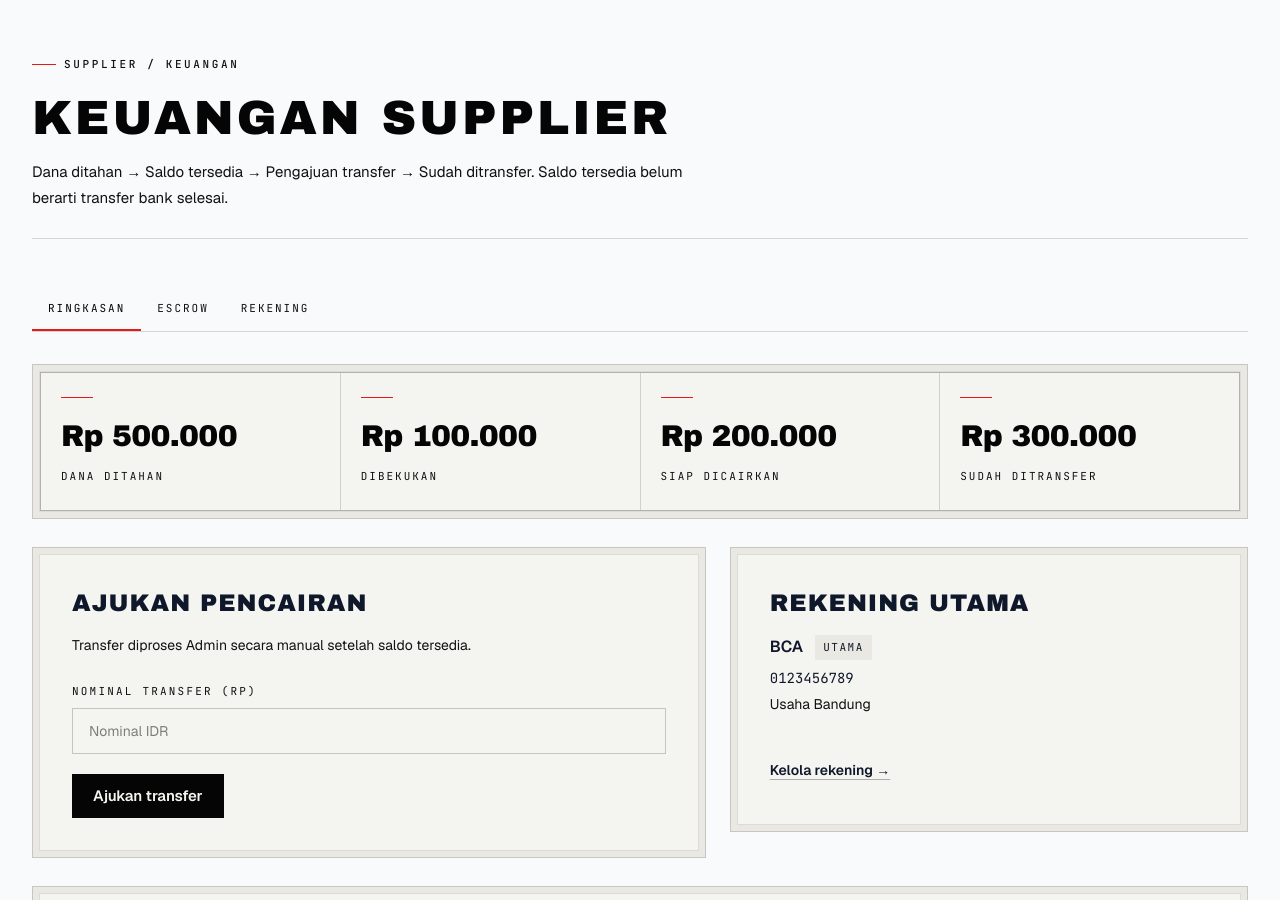
Supplier finance route views › confirms and sends a payout once while pending, then refreshes its status
expect the heading "Keuangan Supplier" is shown: met, box [32, 93, 704, 143]
Type "100000" into the number field labelled "Nominal transfer (Rp)" at (369, 731), box [72, 708, 666, 754]
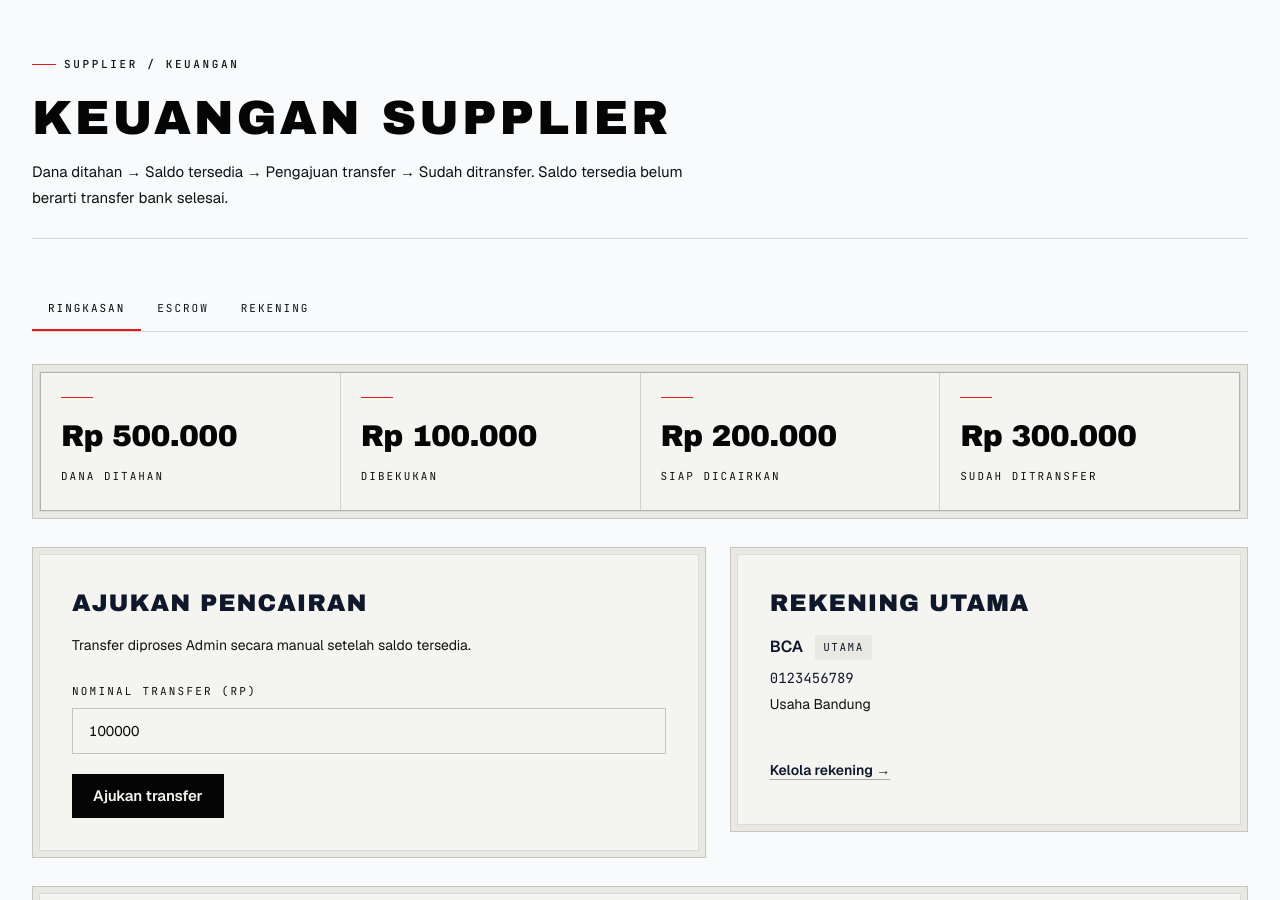
Click the button "Ajukan transfer" at (148, 796), box [72, 774, 224, 818]
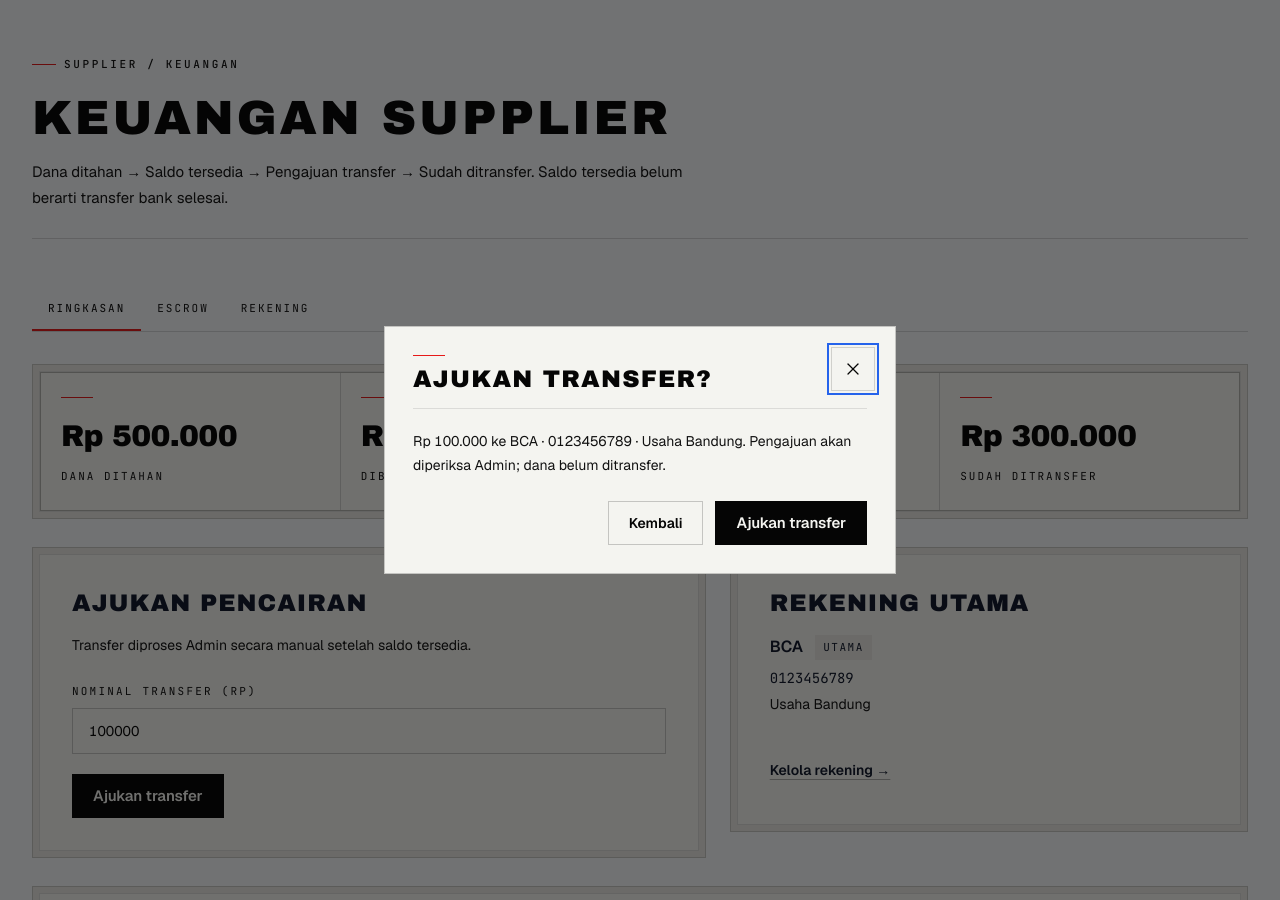
expect the text "dana belum ditransfer" is shown: met, box [413, 432, 851, 474]
Click the button "Ajukan transfer" at (791, 523), box [716, 500, 867, 545]
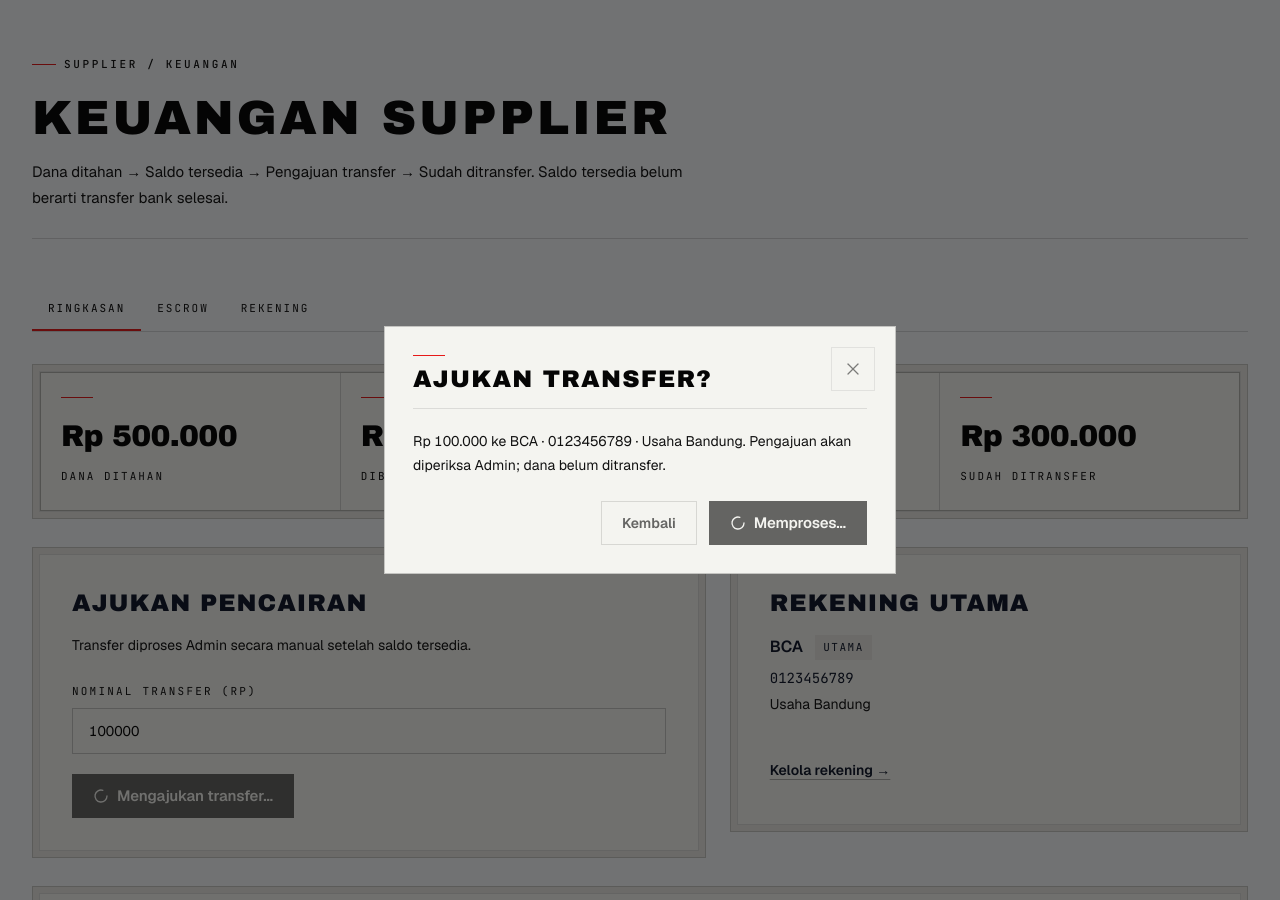
Click the button named "Ajukan transfer" at (788, 523), box [709, 500, 867, 545]
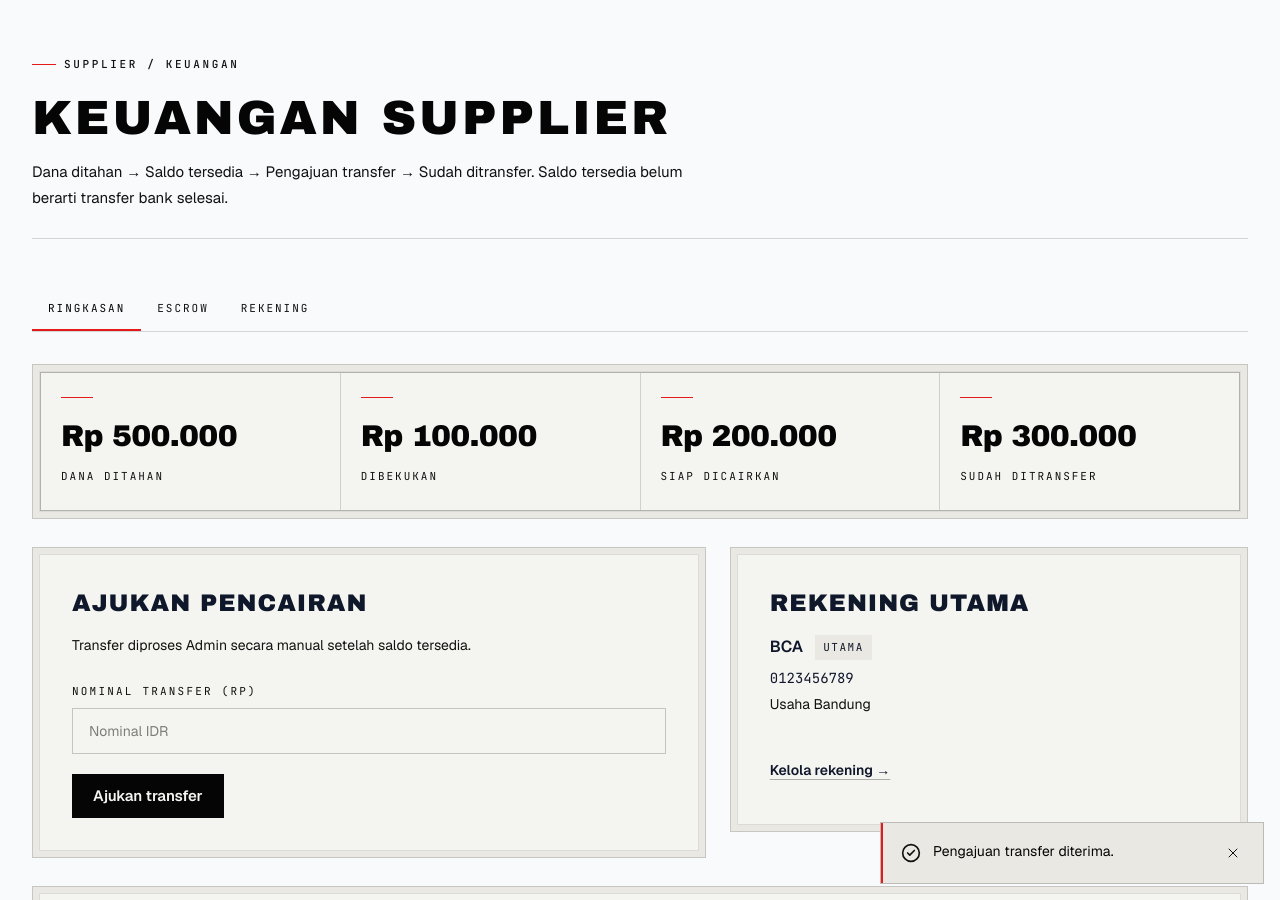
expect the dialog is gone: met
expect the text "Pengajuan transfer diterima." is shown: met, box [933, 842, 1114, 860]
